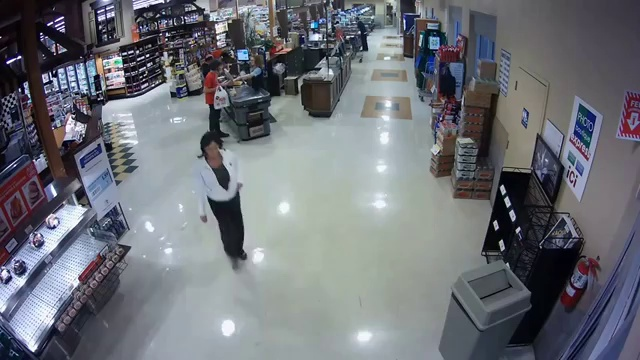face: (203, 141, 219, 158)
